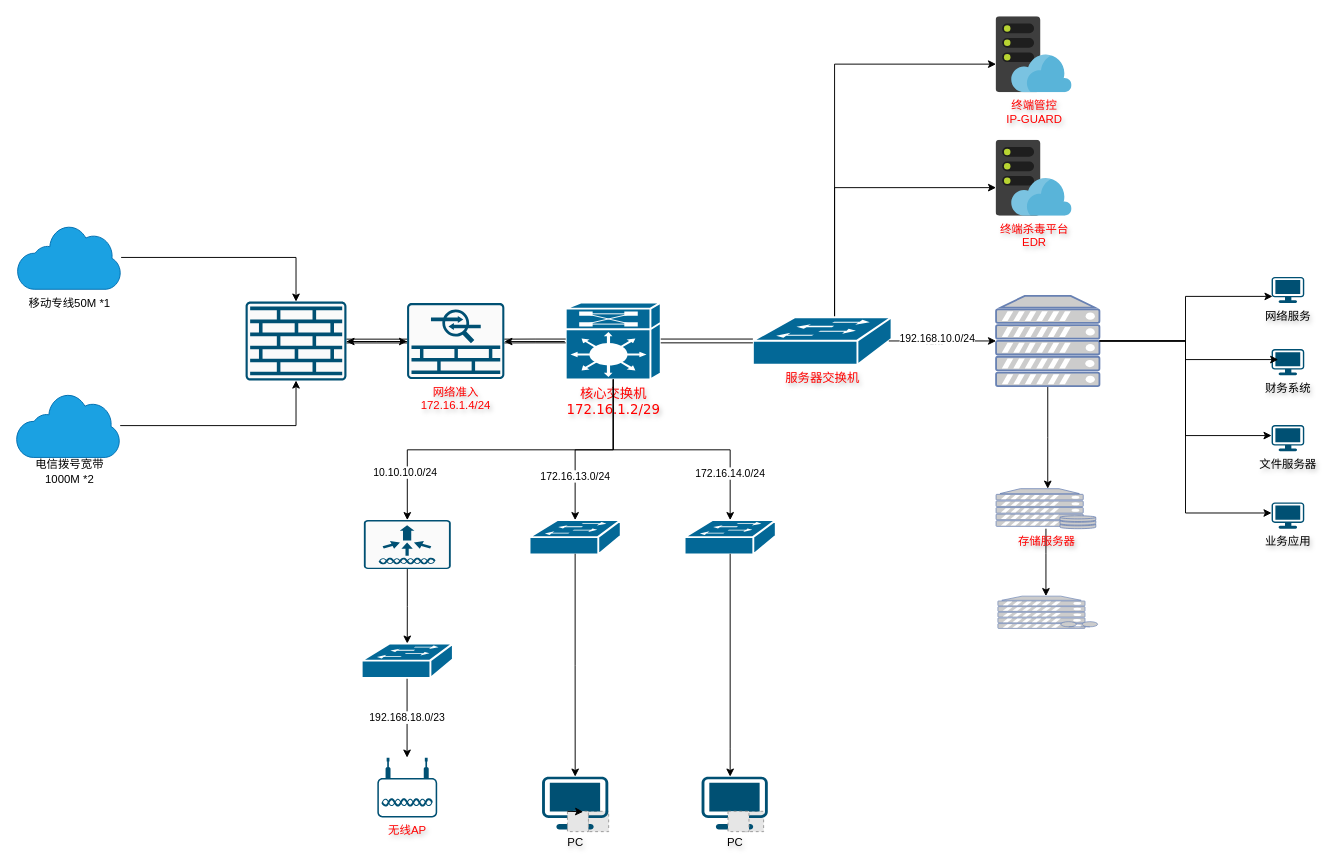
Some shapes in this 1333 by 865 pixel diagram are drawn without their labels. Grey dashed boxes stand in for pictures. The box of each missing label's shape, as (x1, y1, x2, y2) in pixels:
13-14楼POE交换机: (360, 642, 453, 678)
13楼层交换机: (528, 519, 621, 555)
14楼层交换机: (683, 519, 776, 555)
扩展柜: (996, 595, 1098, 629)
无线控制器: (363, 519, 451, 569)
超融合: (995, 294, 1100, 387)
院网防火墙 172.16.1.1/29: (245, 301, 346, 380)
